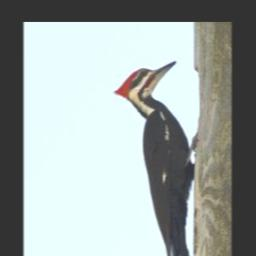Woodpecker: (111, 58, 197, 256)
